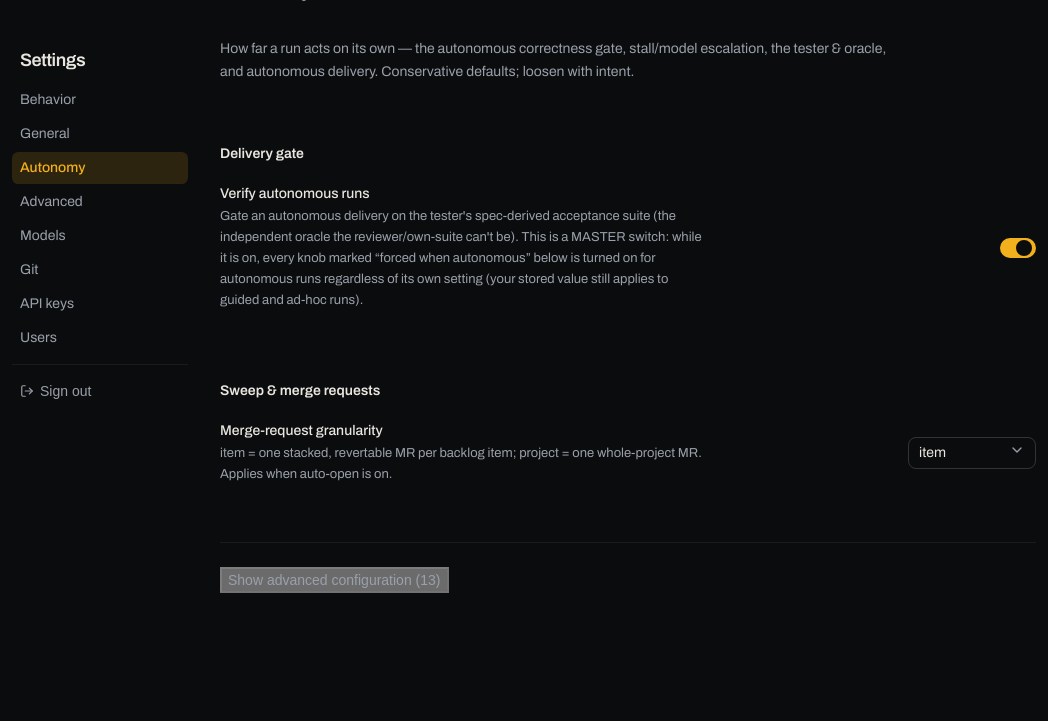
Test: SettingsPage › surfaces the previously-unreachable autonomy knobs, with mr_granularity as a dropdown
The image size is (1048, 721).
Expected: the text "Verify autonomous runs" is shown, [220,184,370,204]
Click the button "Show advanced configuration (13)".
click(334, 580)  # box [220,567,448,593]
(page scrolled)
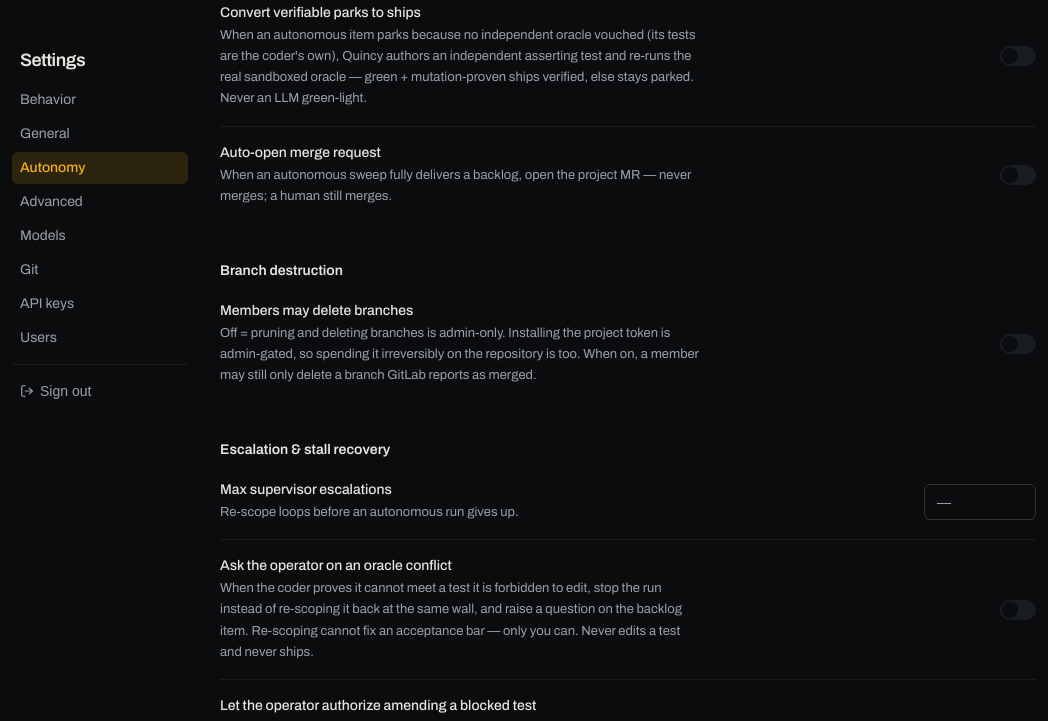
Expected: the heading "Branch destruction" is shown, [220,263,343,278]
